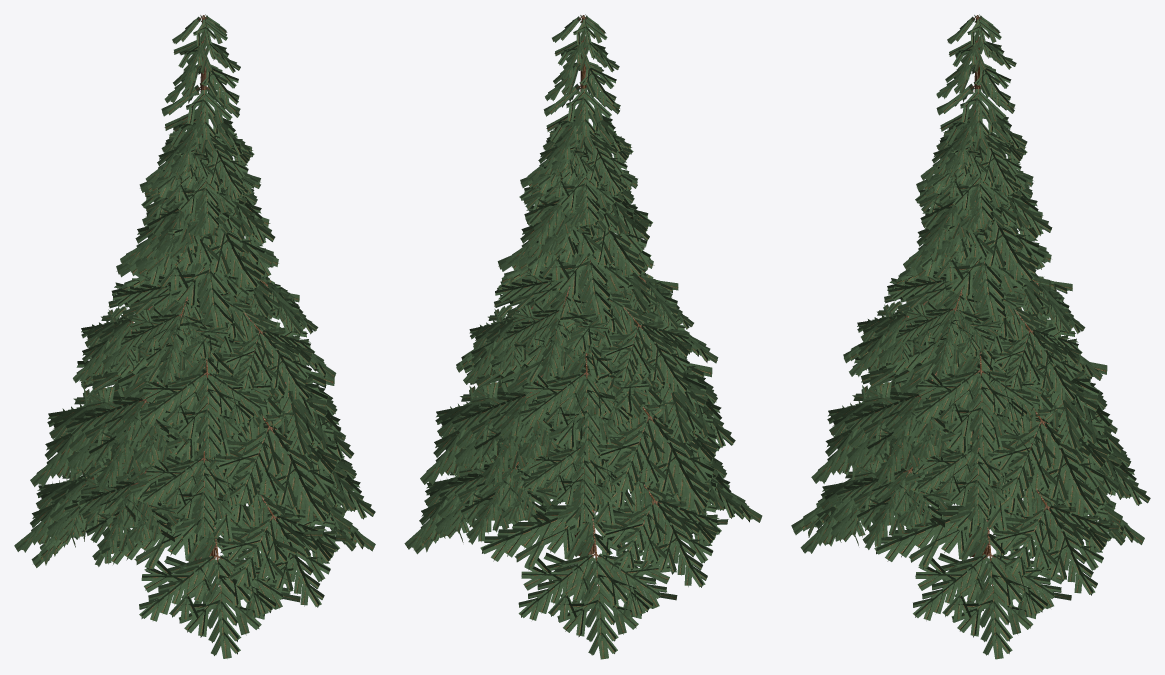
The model's file is _ree3_cut.fbx.
3 views of the same model, side by side, from view 1: azimuth 30°, elevation 25°; view 2: azimuth 150°, elevation 25°; view 3: azimuth 270°, elevation 25° (orthographic).
Visible parts, largest first — view 1: tree3_cut; view 2: tree3_cut; view 3: tree3_cut.
Boxes of the visible parts, x1,y1,x2,y2 form: tree3_cut: (14, 14, 375, 658); tree3_cut: (404, 14, 762, 659); tree3_cut: (791, 14, 1150, 659).
Bounding box in the file's own units: 190 × 330 × 188.
Materials: 3 (3 with a texture image).
